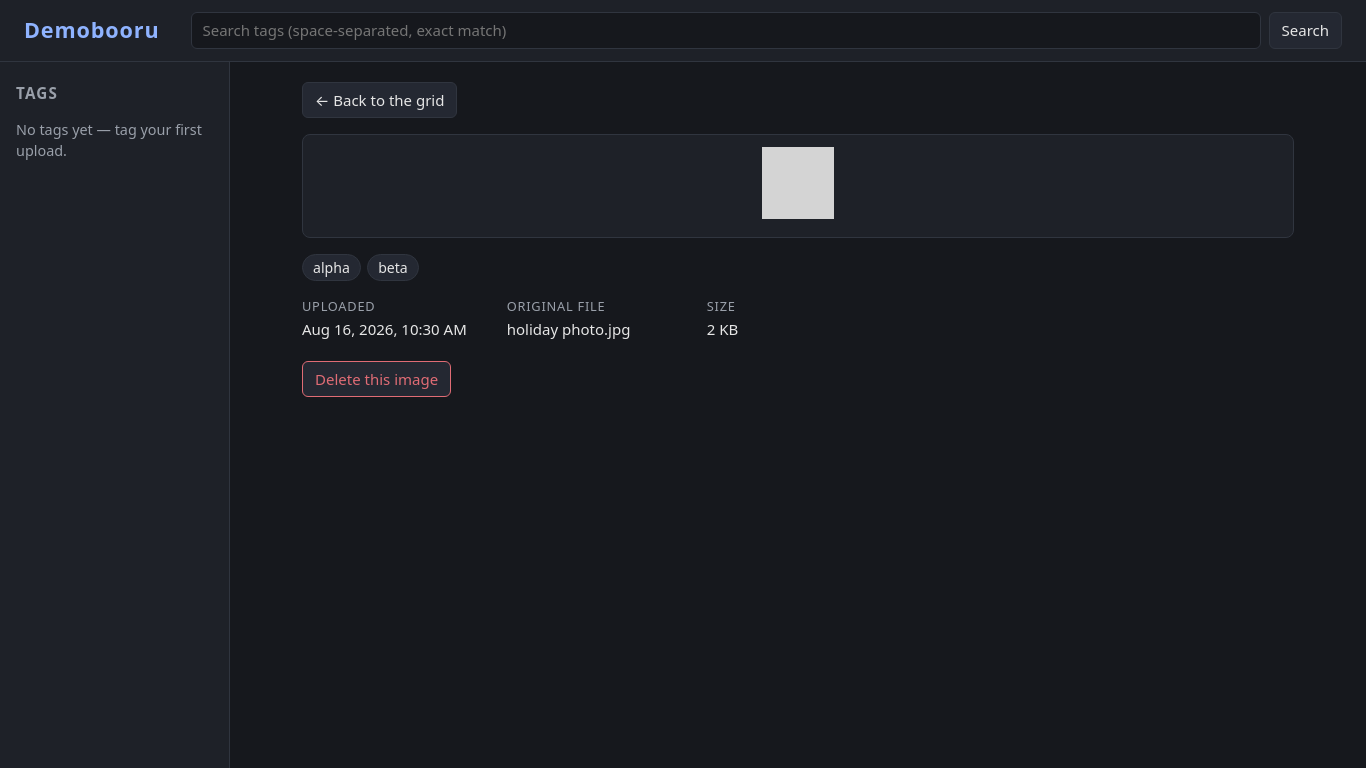
Test case: detail view › requires confirmation before deleting, then returns to the grid
Step 1. Click the button "Delete this image" → (377, 379), box [302,361,451,397]
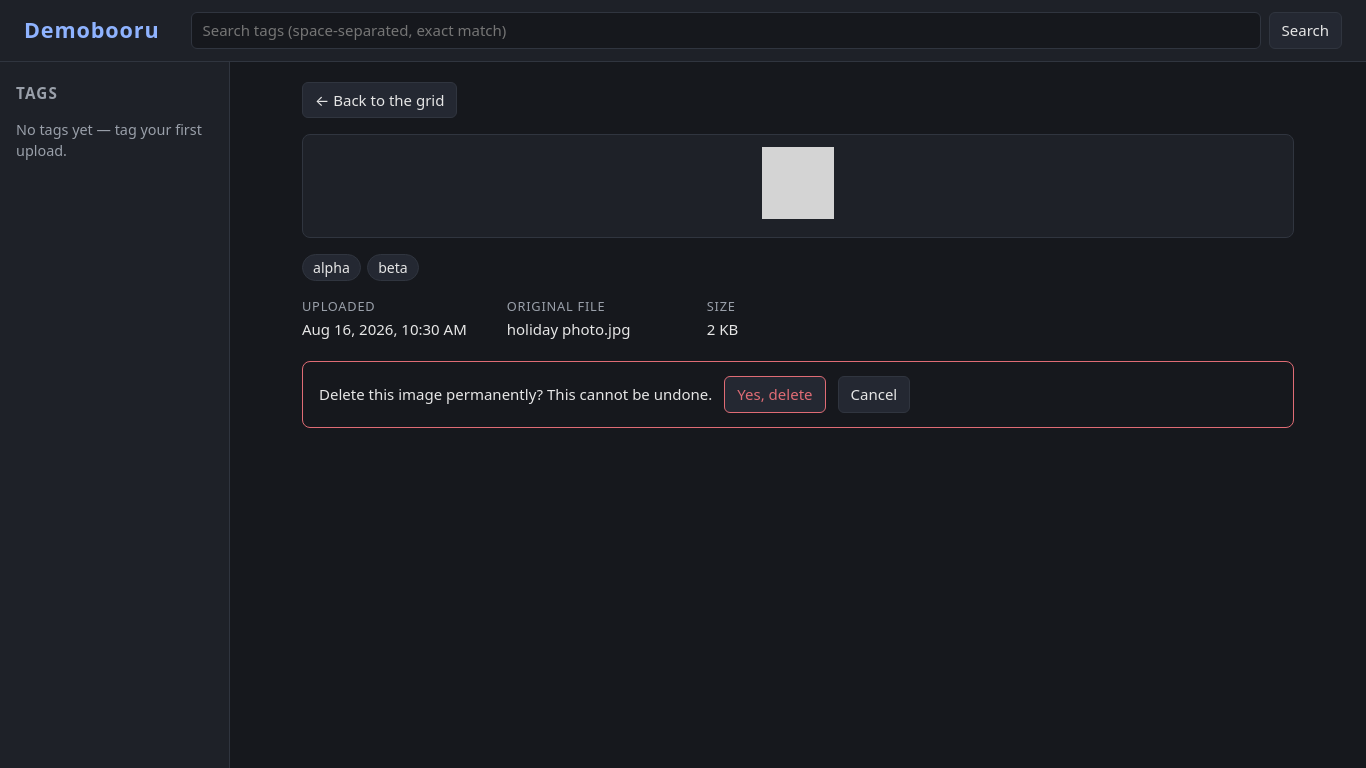
Now the text "Delete this image permanently? This cannot be undone." is shown, box [319,383,712,406]
Step 2. Click the button "Yes, delete" → (775, 394), box [724,376,826,413]
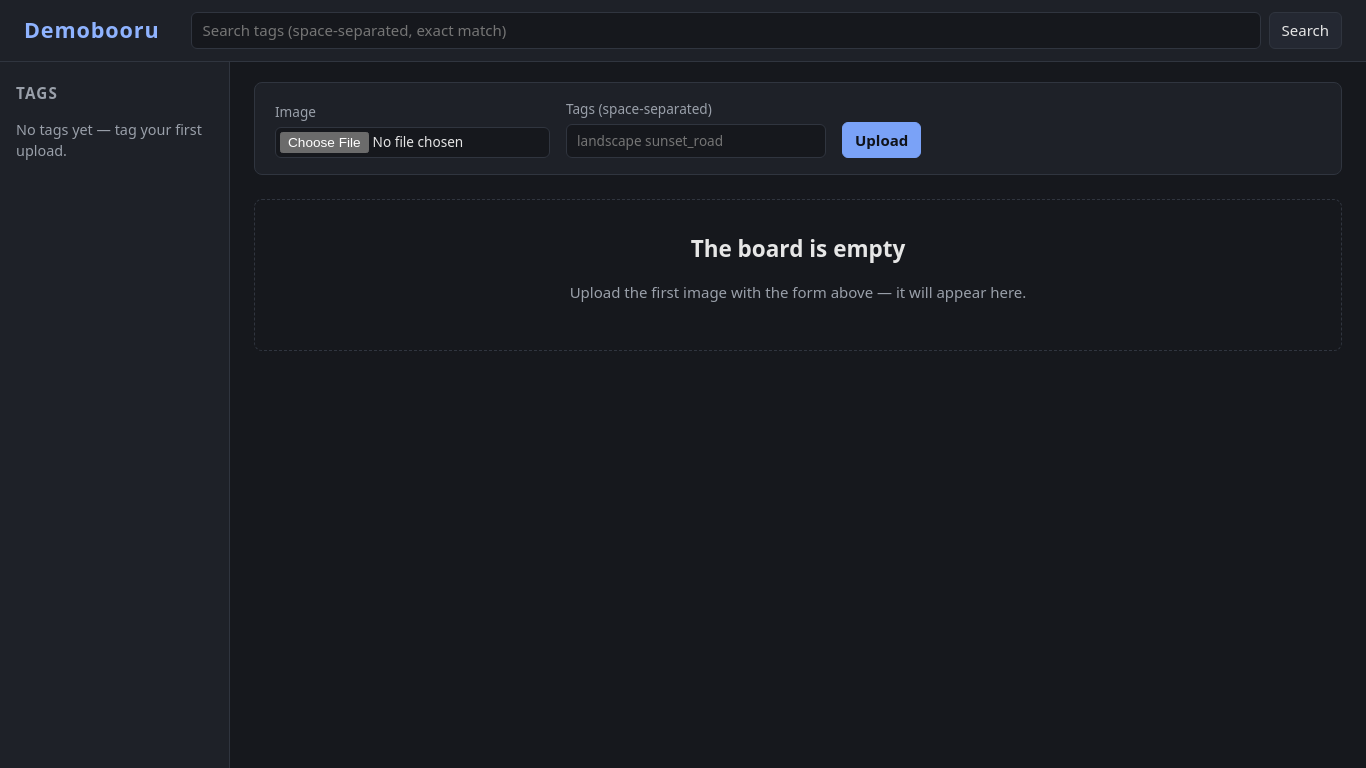
Now the heading "The board is empty" is shown, box [691,233,905,264]
